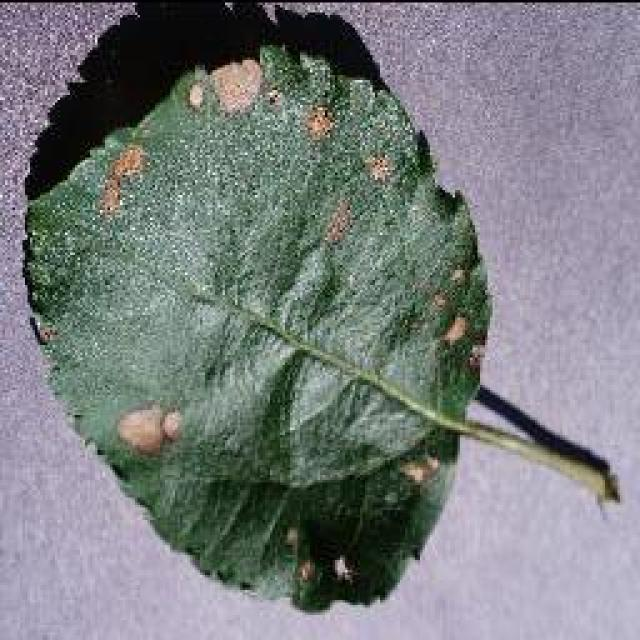black_rot: (95, 143, 166, 233), (196, 59, 285, 124), (106, 396, 195, 454), (430, 287, 481, 351), (300, 87, 349, 147), (364, 142, 398, 220)
